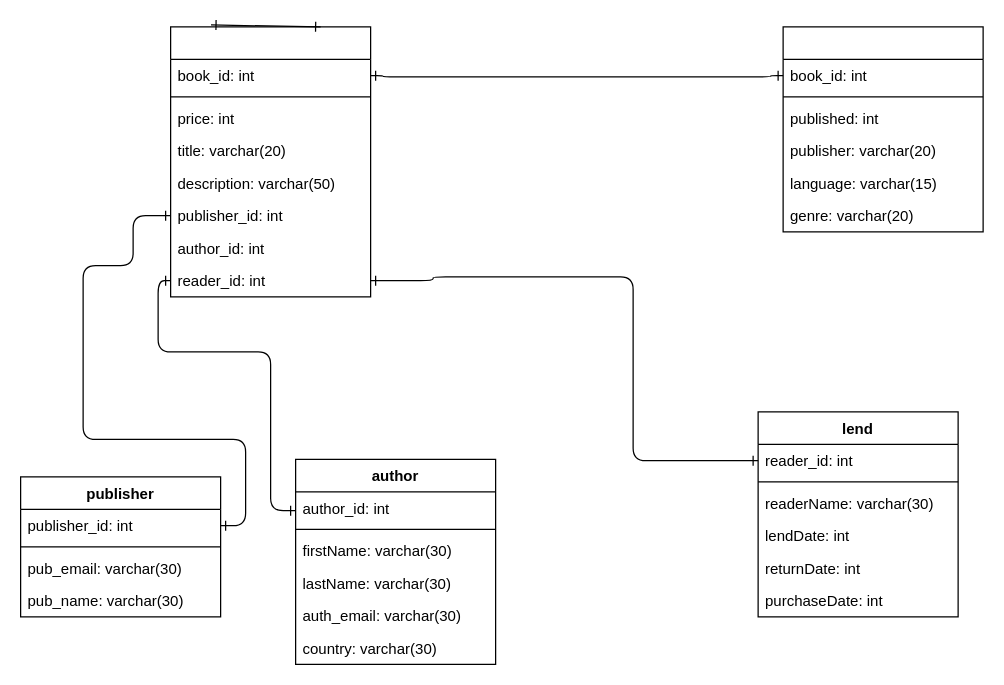
Some shapes in this 1004 by 685 pixel diagram are drawn without their labels. The box of each missing label's shape, as (x1, y1, x2, y2) in pixels:
book_details: (782, 26, 983, 232)
books: (169, 26, 371, 297)
